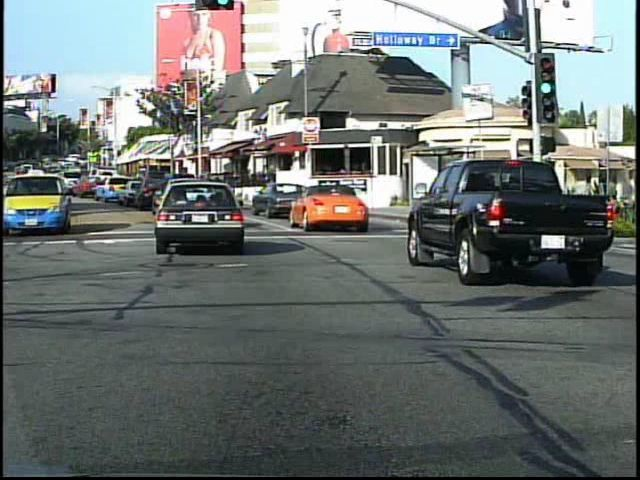person: (593, 180, 616, 256)
